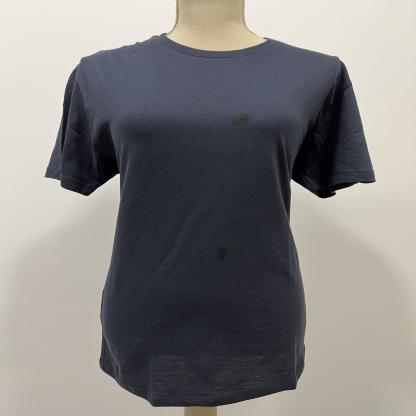stain: (228, 111, 254, 129), (213, 246, 229, 264)
